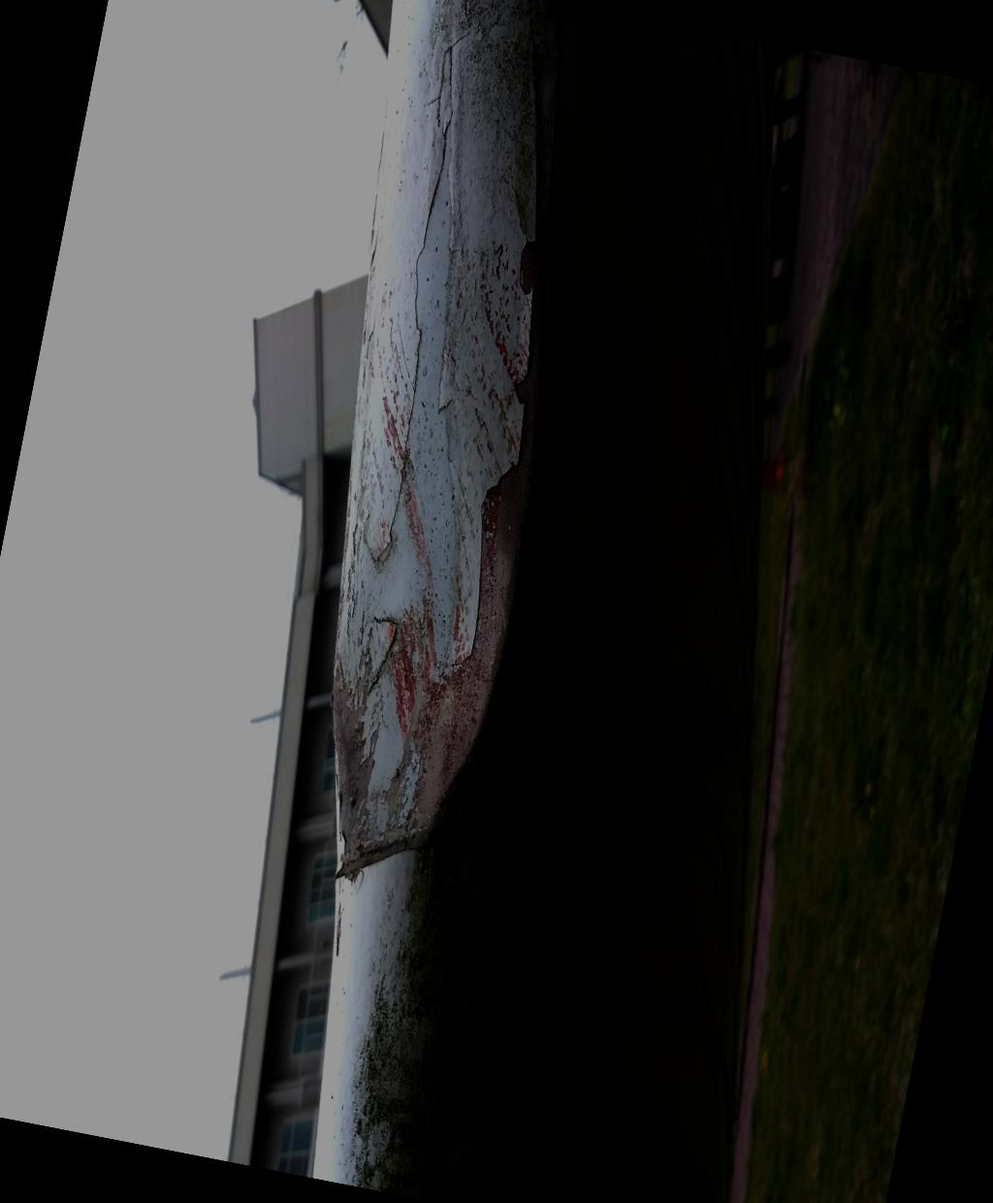corrosion: (185, 0, 518, 385)
